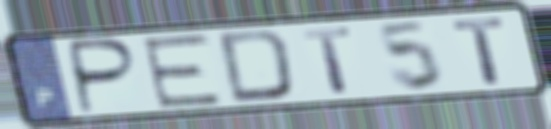5: (372, 18, 444, 93)
D: (215, 26, 298, 105)
E: (137, 31, 226, 111)
P: (67, 36, 142, 117)
T: (449, 15, 510, 86), (299, 25, 357, 95)
